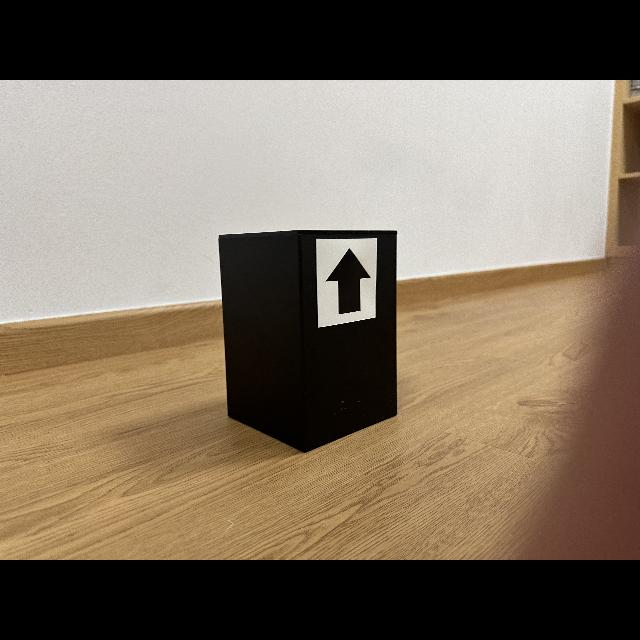UP: (326, 249, 370, 314)
